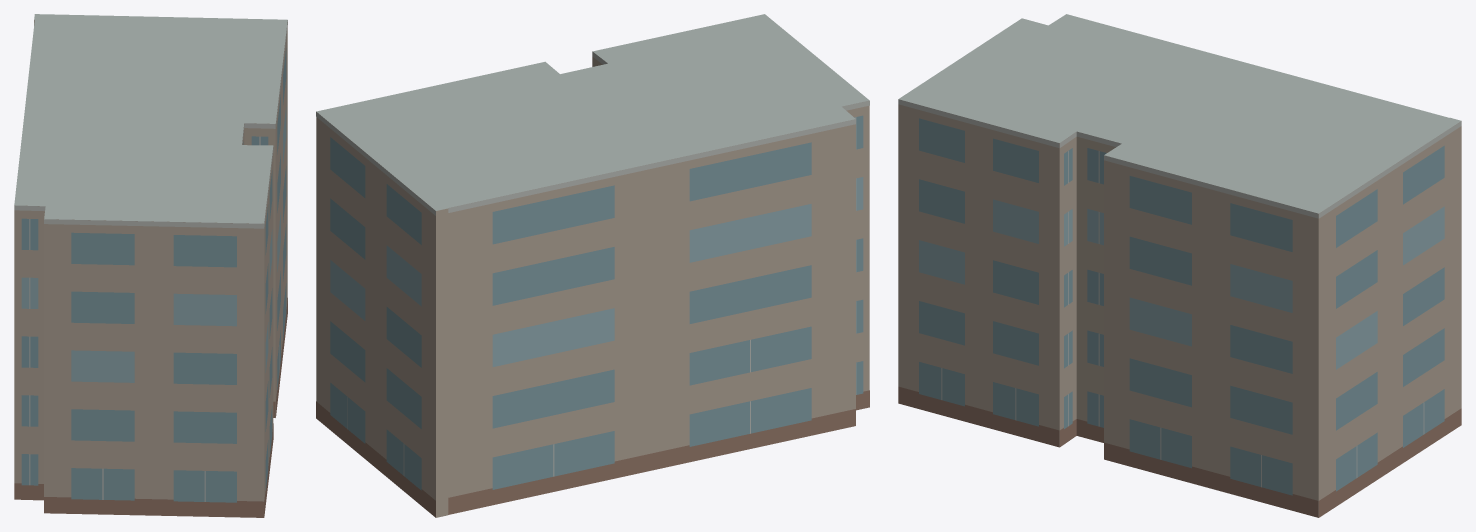
File: survey-upis-32978039.glb
The picture shows the model from 3 angles, left to right: view 1: azimuth 30°, elevation 25°; view 2: azimuth 150°, elevation 25°; view 3: azimuth 270°, elevation 25°; orthographic projection. The views are drawn at different scales.
Visible parts, largest first — view 1: survey-upis-32978039.tmp; view 2: survey-upis-32978039.tmp; view 3: survey-upis-32978039.tmp.
Part boxes in pixels (bbox=[...]): survey-upis-32978039.tmp: bbox=[14, 14, 287, 517]; survey-upis-32978039.tmp: bbox=[316, 14, 869, 517]; survey-upis-32978039.tmp: bbox=[898, 14, 1461, 517].
Size of the model in its own units: 20.55 by 14.6 by 24.51.
